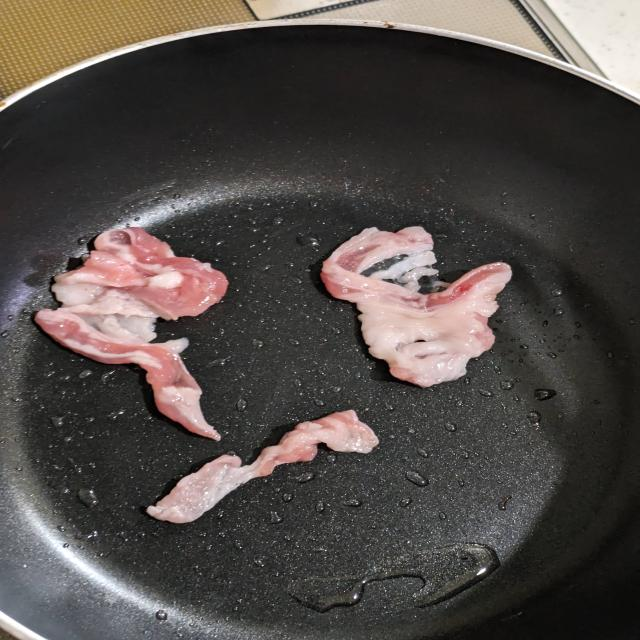NG raw pork,: (295, 212, 520, 394)
NG undercooked pork,: (19, 217, 252, 446), (132, 409, 395, 537)
